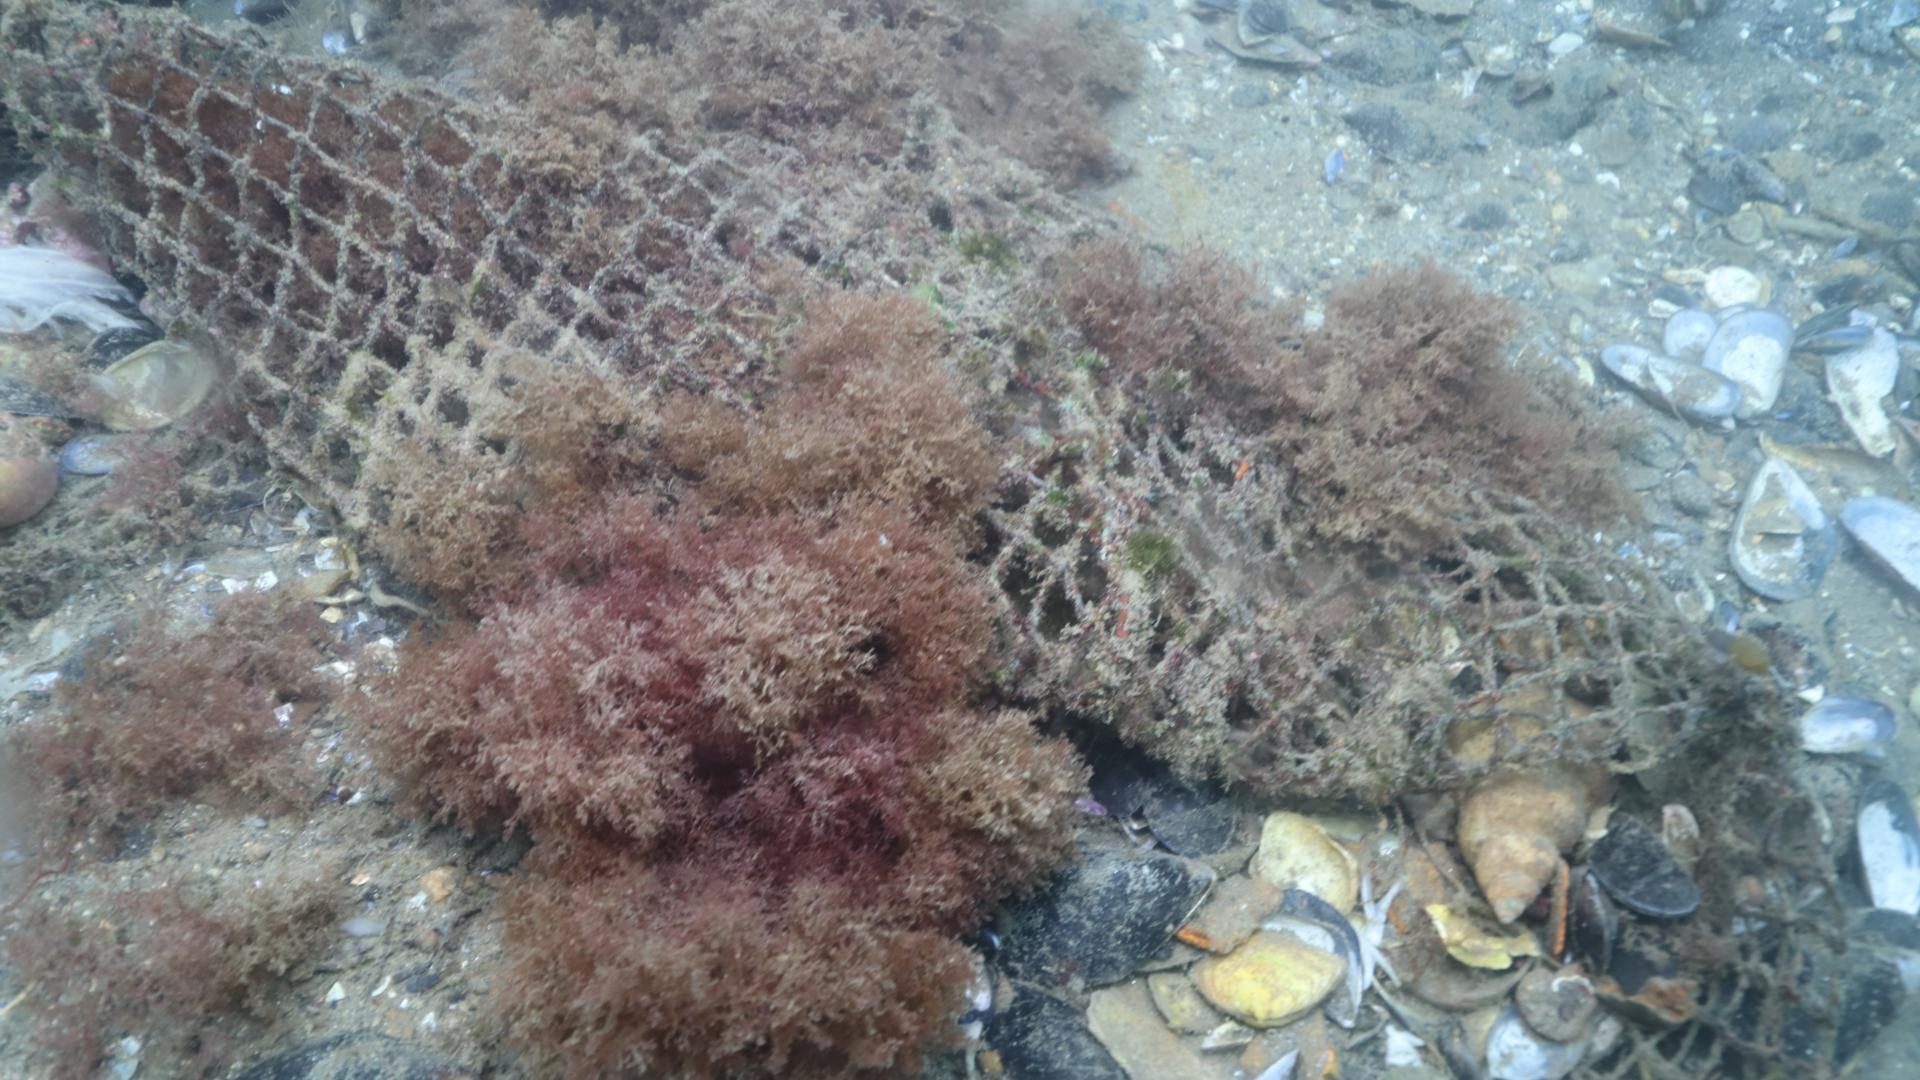fish net: (1, 0, 1807, 1080)
